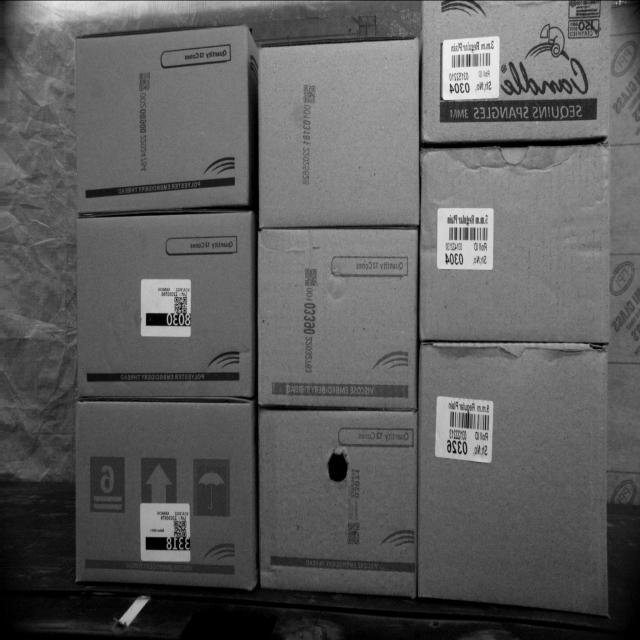cardboxes: (416, 341, 613, 617), (419, 140, 613, 339), (72, 26, 252, 210), (75, 401, 253, 583), (77, 212, 254, 395), (258, 35, 422, 226), (255, 229, 420, 407), (258, 409, 416, 592), (423, 0, 611, 144)
